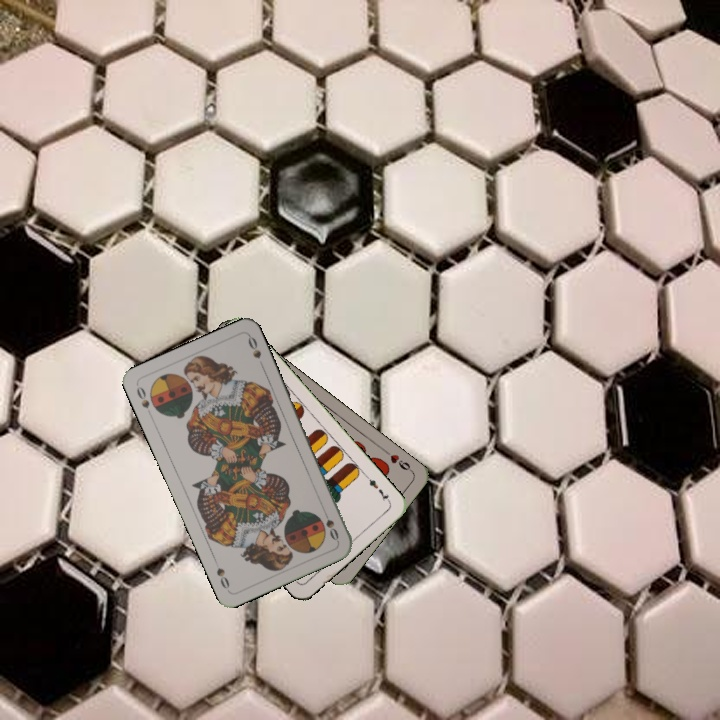E7: (362, 472, 393, 505)
H9: (380, 446, 415, 475)
SO: (319, 505, 341, 544), (132, 382, 152, 411)
